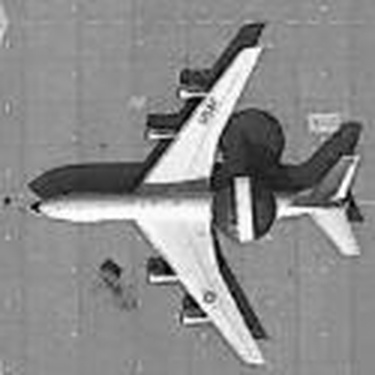airplane: (21, 25, 364, 367)
